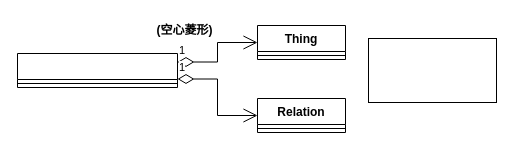
Some shapes in this 514 by 150 pixel diagram are drawn without their labels. The box of each missing label's shape, as (x1, y1, x2, y2) in pixels:
ClassDiagram: (16, 52, 178, 88)
類圖包含有事物和關係，類圖不存在了，事物和關係還可用無其他的類圖: (368, 38, 496, 102)
